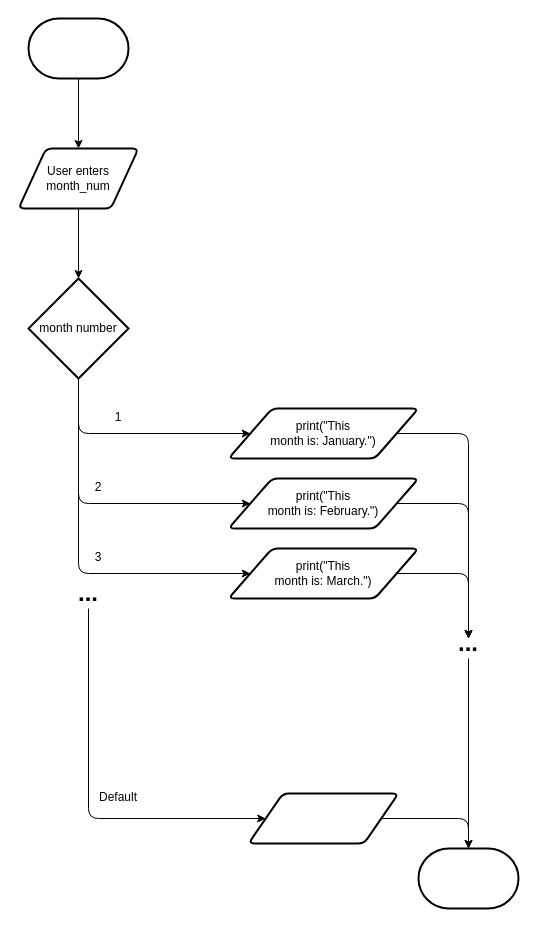
Image size: 536x926. Some labels were removed from this diagram. Here are the shapes that lost their labels. From the top down, the box of each, then its label:
(27, 17, 129, 79): Start
(247, 792, 399, 844): print("Invalid month.")
(417, 847, 519, 909): Stop
